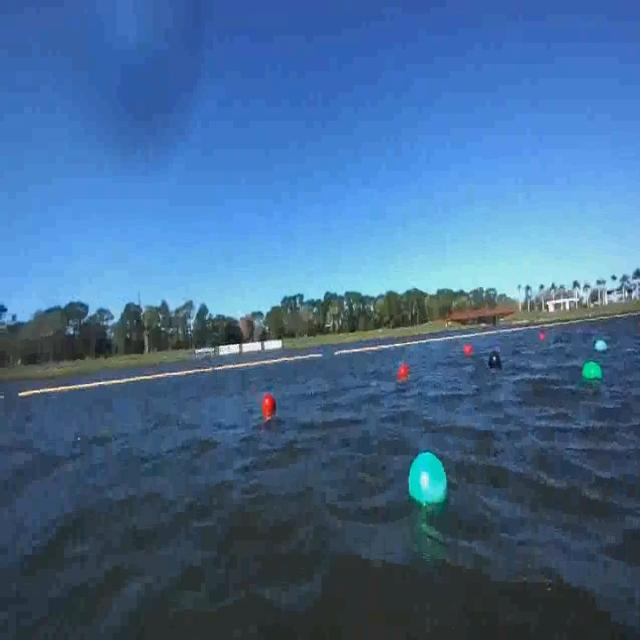black-buoy: (488, 352, 502, 368)
green-buoy: (409, 452, 449, 508), (579, 359, 601, 388)
red-buoy: (265, 394, 277, 416), (398, 364, 408, 378), (464, 344, 472, 356)
